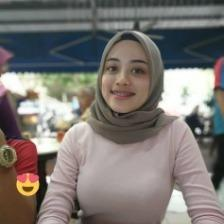Non Syar-i: (84, 28, 180, 143)
